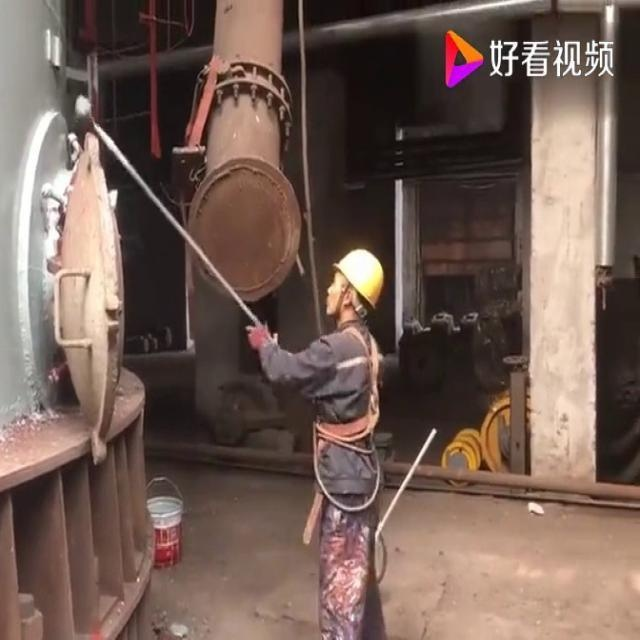Arnes_seguridad: (309, 320, 389, 446)
